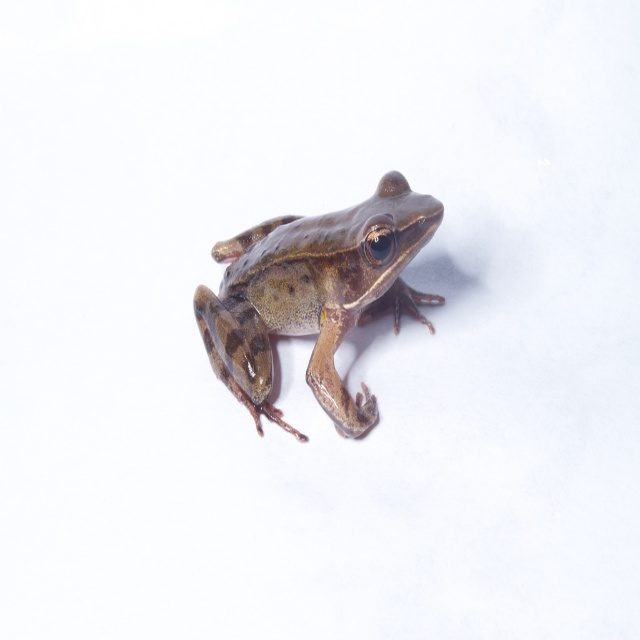Frog: (192, 170, 448, 443)
